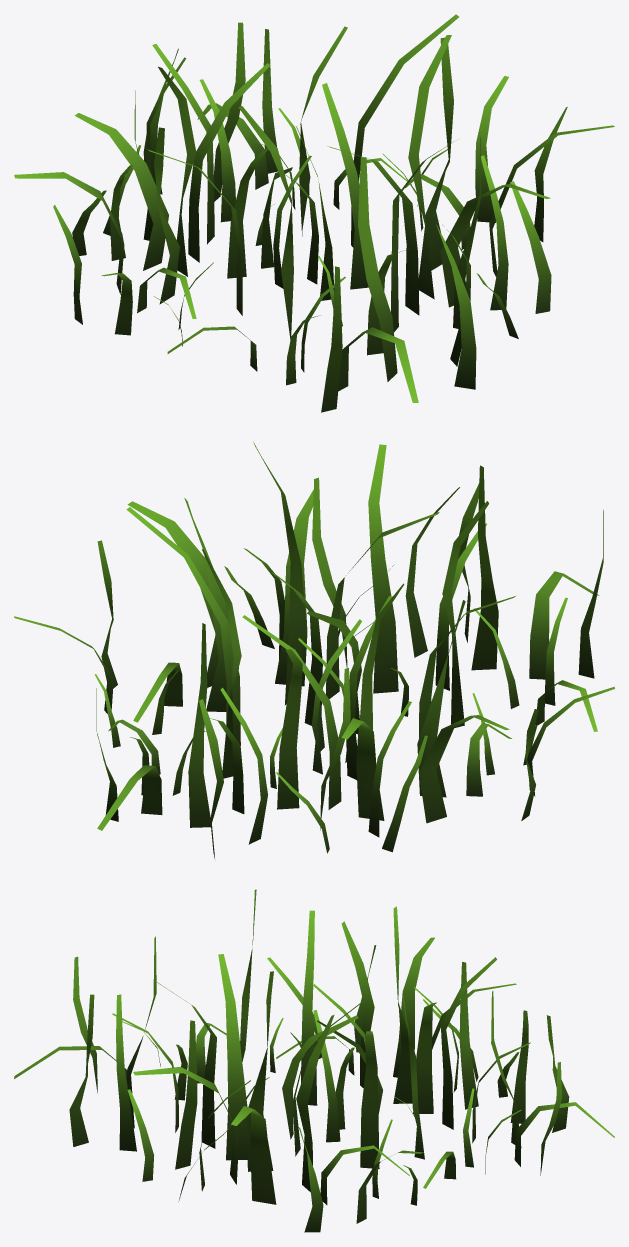
Rendered from grass00.fbx.
3 views of the same model, one above another, from view 1: azimuth 30°, elevation 25°; view 2: azimuth 150°, elevation 25°; view 3: azimuth 270°, elevation 25° (orthographic). The views are drawn at different scales.
Visible parts, largest first — view 1: GrassClump1; view 2: GrassClump1; view 3: GrassClump1.
Boxes of the visible parts, left/top/right/bottom form: GrassClump1: left=14, top=14, right=614, bottom=412; GrassClump1: left=14, top=442, right=614, bottom=858; GrassClump1: left=14, top=889, right=614, bottom=1232.
Bounding box in the file's own units: 190 × 91.41 × 232.
